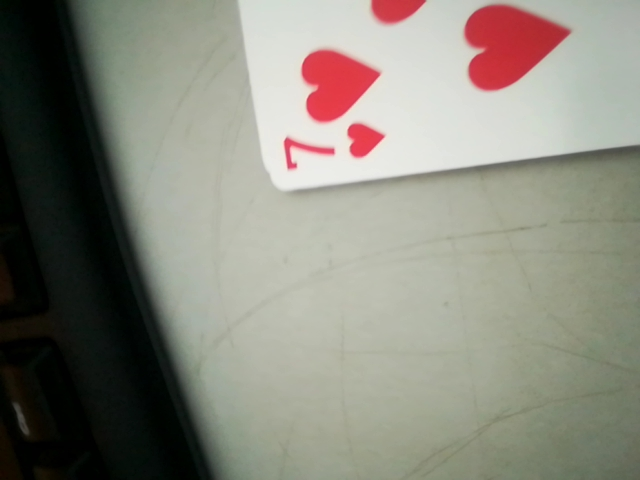hx 7: (276, 119, 393, 191)
